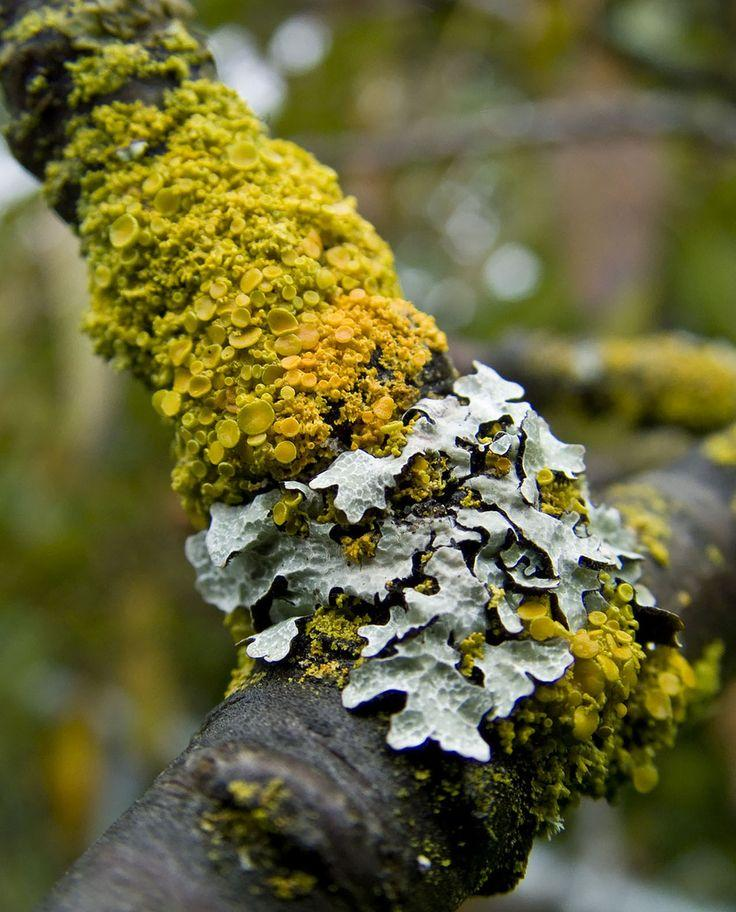lichen: (192, 362, 651, 765), (46, 79, 444, 522)
